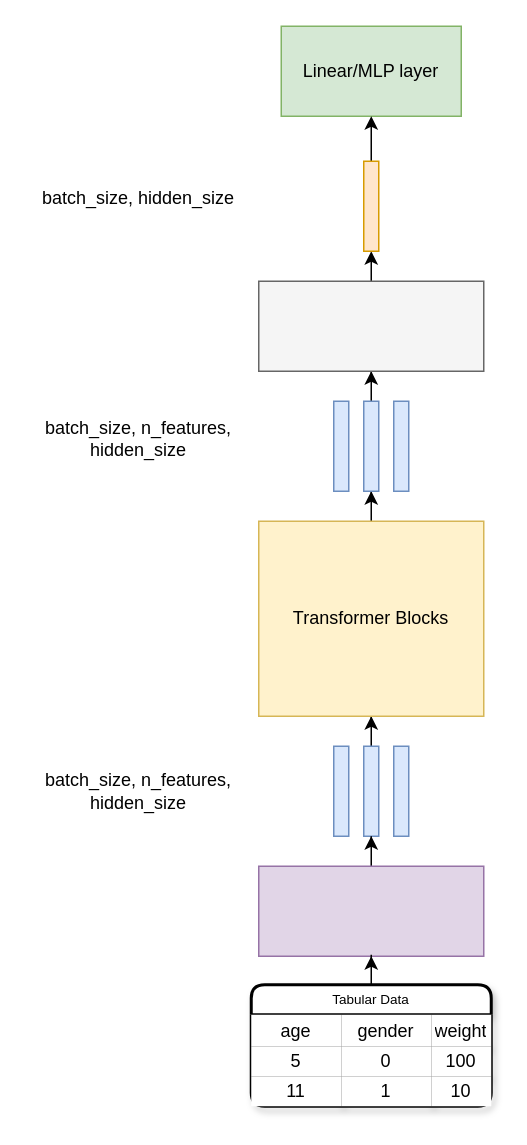
Some shapes in this 527 by 1145 pixel diagram are drawn without their labels. Each missing label, with the centre of its shape:
"Aggregation Layer (mean, sum, CLS)" belongs at point (370, 325).
"Tabular Embedding" belongs at point (370, 910).
